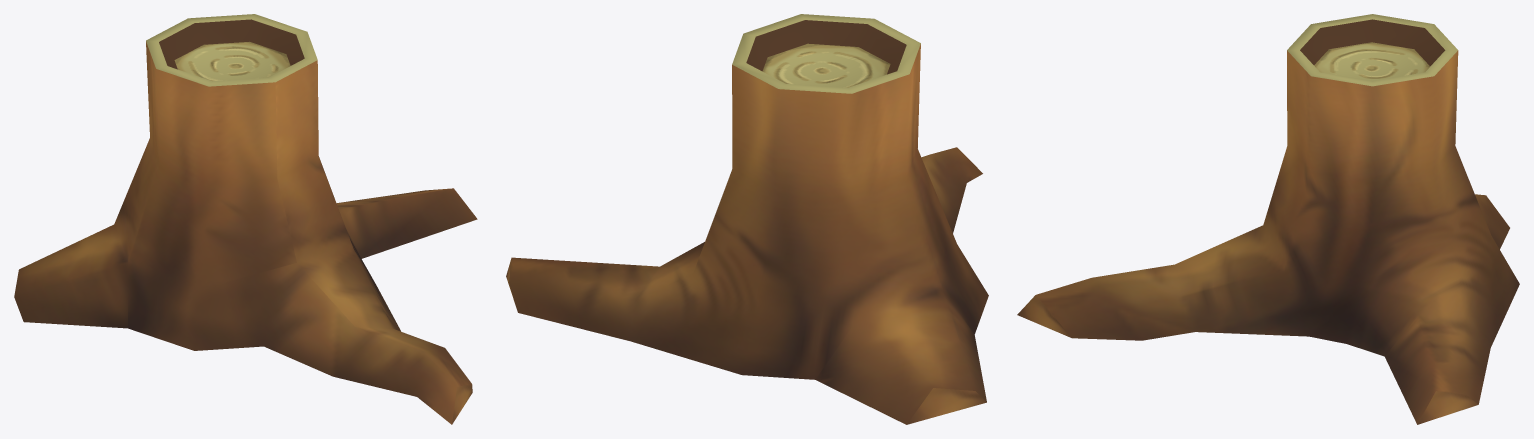
File: tree_3.gltf
The picture shows the model from 3 angles, left to right: view 1: azimuth 30°, elevation 25°; view 2: azimuth 150°, elevation 25°; view 3: azimuth 270°, elevation 25°; orthographic projection. The views are drawn at different scales.
Visible parts, largest first — view 1: Tree3; view 2: Tree3; view 3: Tree3.
Part boxes in pixels (x1=…): Tree3: x1=14, y1=14, x2=477, y2=424; Tree3: x1=506, y1=14, x2=988, y2=424; Tree3: x1=1017, y1=14, x2=1519, y2=424.
Size of what is drawn, in the model's own units: 1.74 by 0.938 by 1.74.
Materials: 1 (1 with a texture image).
